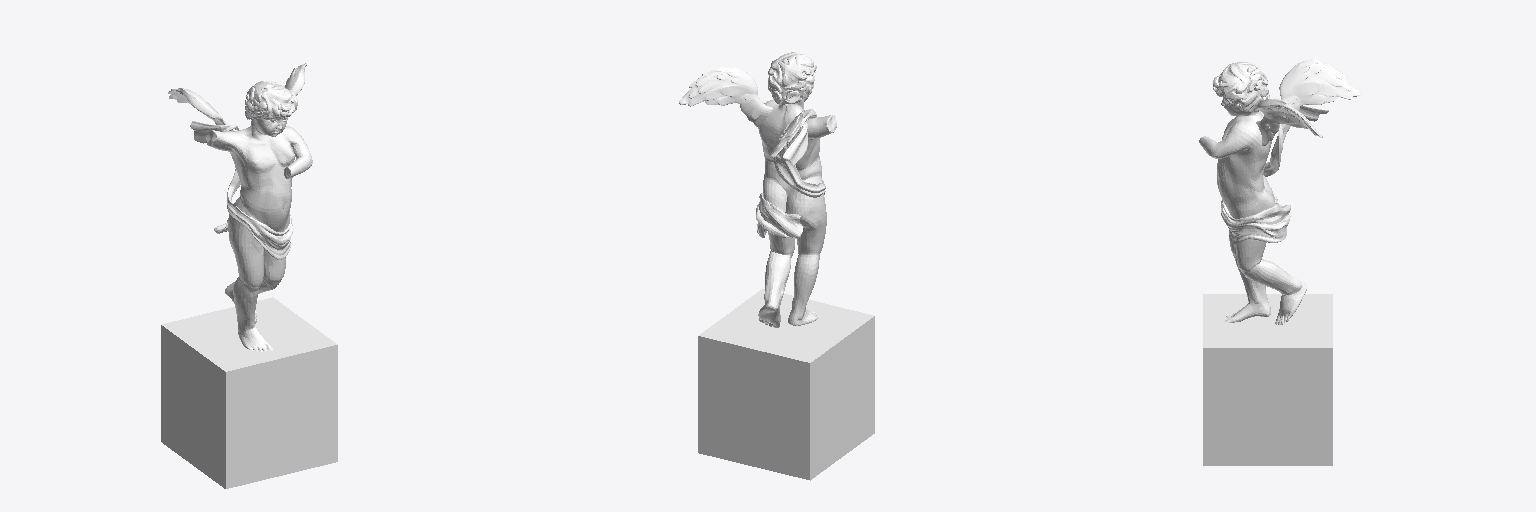
Rendered from cupid2.obj.
3 renders of one model, left to right at view 1: azimuth 30°, elevation 25°; view 2: azimuth 150°, elevation 25°; view 3: azimuth 270°, elevation 25°, orthographic.
Visible parts, largest first — view 1: cube2, unnamed_object1; view 2: cube2, unnamed_object1; view 3: cube2, unnamed_object1.
Part boxes in pixels (left/top/right/bottom): cube2: left=161, top=297, right=337, bottom=488; unnamed_object1: left=168, top=63, right=312, bottom=351; cube2: left=698, top=289, right=874, bottom=480; unnamed_object1: left=679, top=52, right=836, bottom=327; cube2: left=1203, top=294, right=1332, bottom=465; unnamed_object1: left=1199, top=59, right=1360, bottom=324.
Bounding box in the file's own units: 2.45 × 6.42 × 2.49.